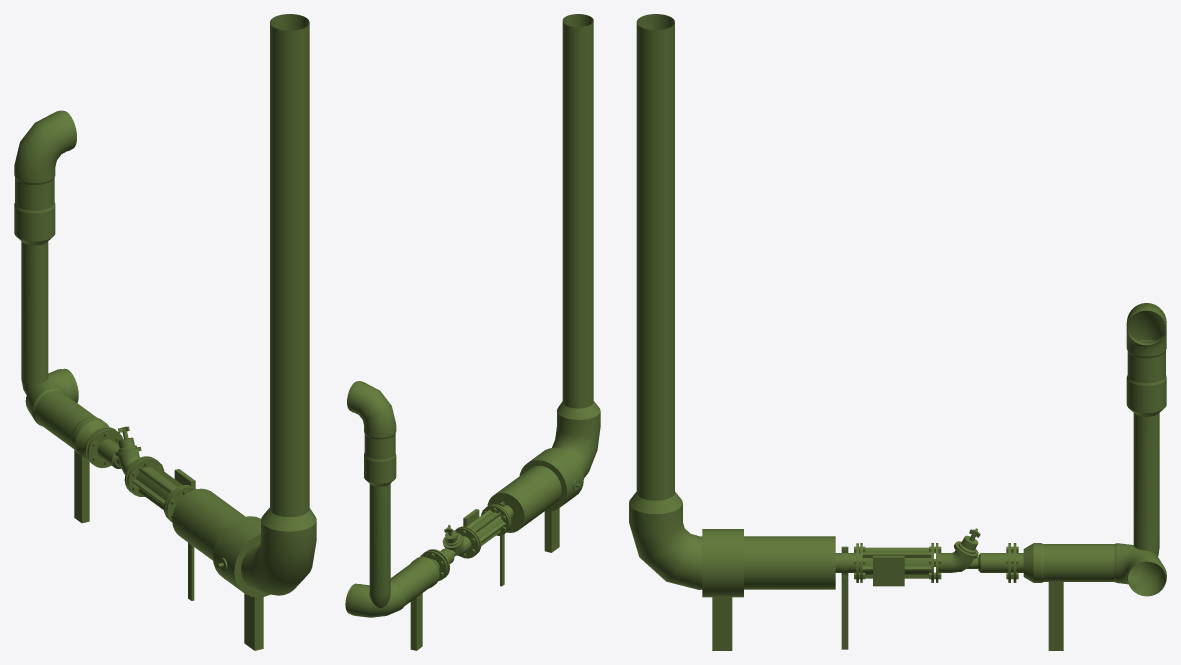
Rendered from Arina_ControllablePipe.fbx.
The picture shows the model from 3 angles, left to right: view 1: azimuth 30°, elevation 25°; view 2: azimuth 150°, elevation 25°; view 3: azimuth 270°, elevation 25°; orthographic projection. The views are drawn at different scales.
Parts seen in each view (by area): view 1: Arina-Pipe.Controllable; view 2: Arina-Pipe.Controllable; view 3: Arina-Pipe.Controllable.
Part boxes in pixels (x1,y1,x2,y2): Arina-Pipe.Controllable: (14,14,316,650); Arina-Pipe.Controllable: (345,14,600,650); Arina-Pipe.Controllable: (629,14,1166,650).
Bounding box in the file's own units: 47.03 × 416 × 323.
